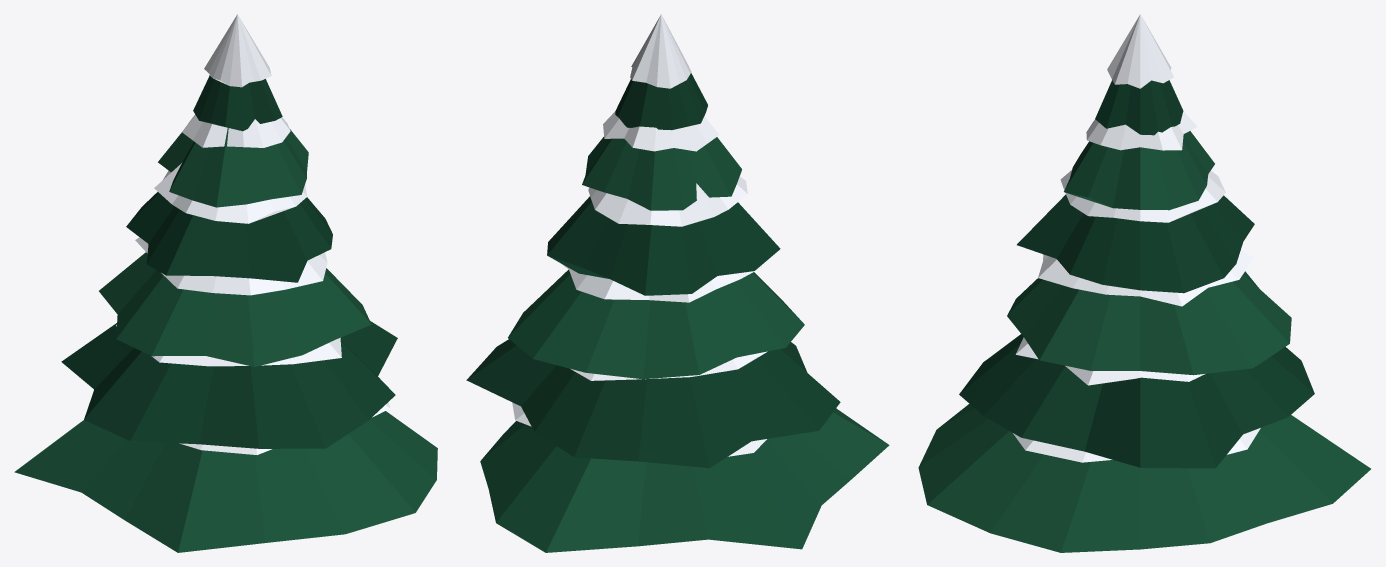
File: pine.glb
The picture shows the model from 3 angles, left to right: view 1: azimuth 30°, elevation 25°; view 2: azimuth 150°, elevation 25°; view 3: azimuth 270°, elevation 25°; orthographic projection. The views are drawn at different scales.
Parts seen in each view (by area): view 1: pine; view 2: pine; view 3: pine.
Part boxes in pixels (x1,y1,x2,y2): pine: [14, 14, 437, 552]; pine: [466, 14, 889, 552]; pine: [918, 14, 1370, 552].
Size of the model in its own units: 3.78 by 5.22 by 4.22.
